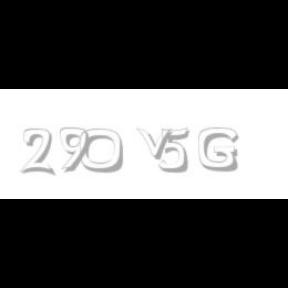2: (20, 128, 54, 176)
5: (158, 128, 189, 174)
9: (60, 128, 88, 172)
G: (198, 128, 238, 172)
O: (80, 128, 124, 174)
v: (136, 128, 176, 160)
